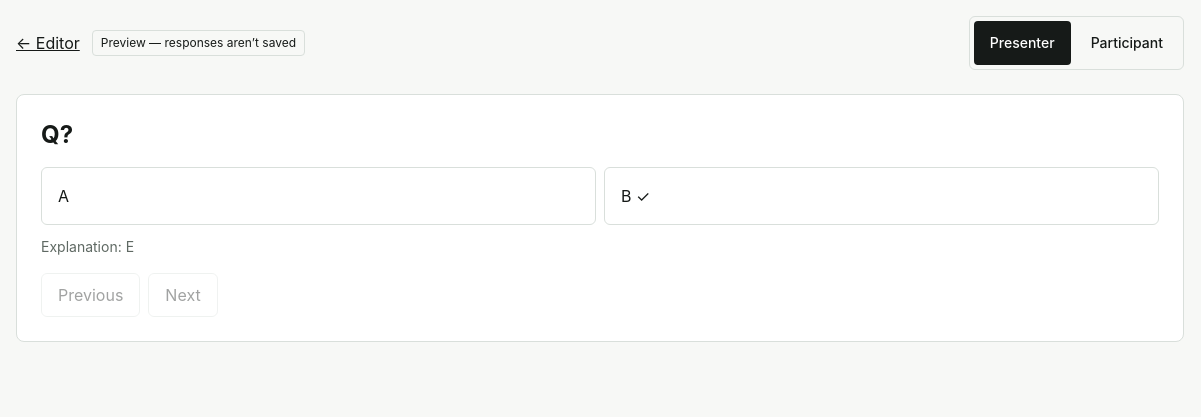
preview page › switches roles without writes
Expected: the heading "Q?" is shown, 41,120 -> 73,149
Click the tab "Participant": x=1127, y=43 1075,21 -> 1179,65
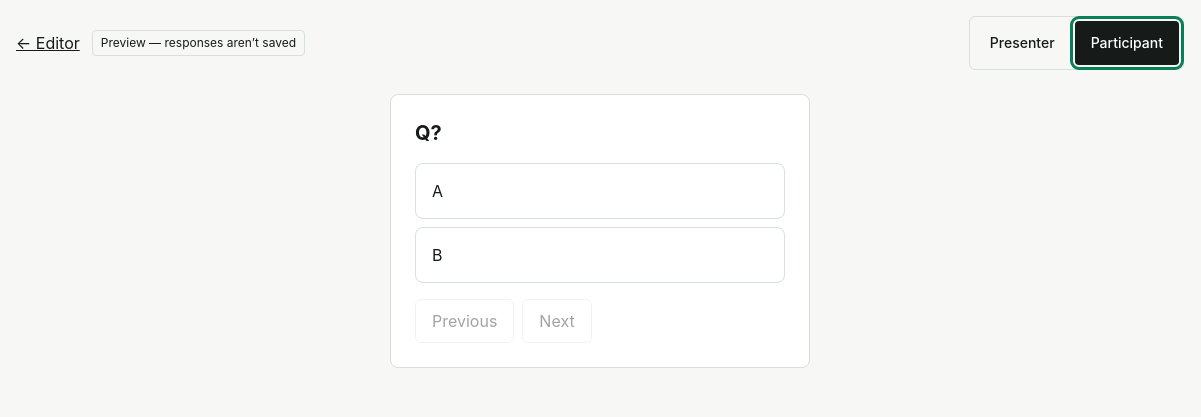
Click the button "A": x=438, y=191 415,163 -> 785,219
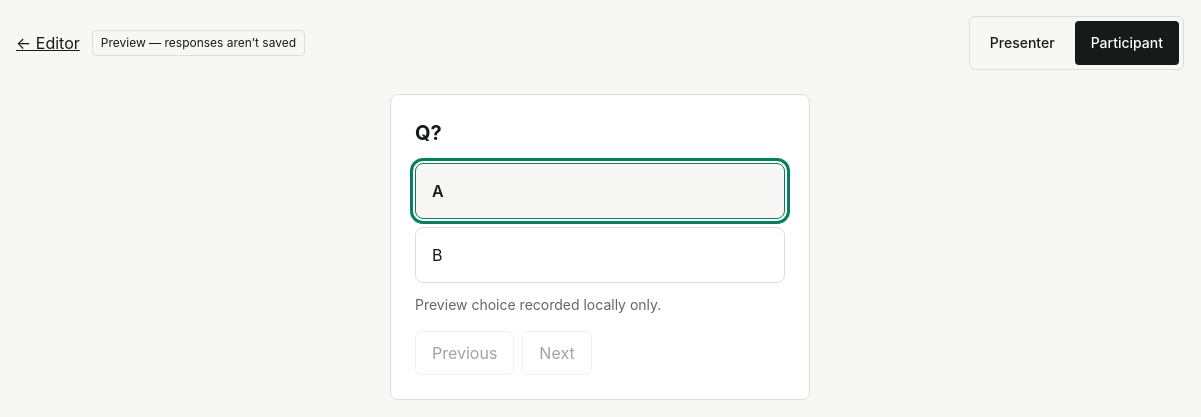
Expected: the text "Preview choice recorded locally only." is shown, 415,296 -> 661,313
